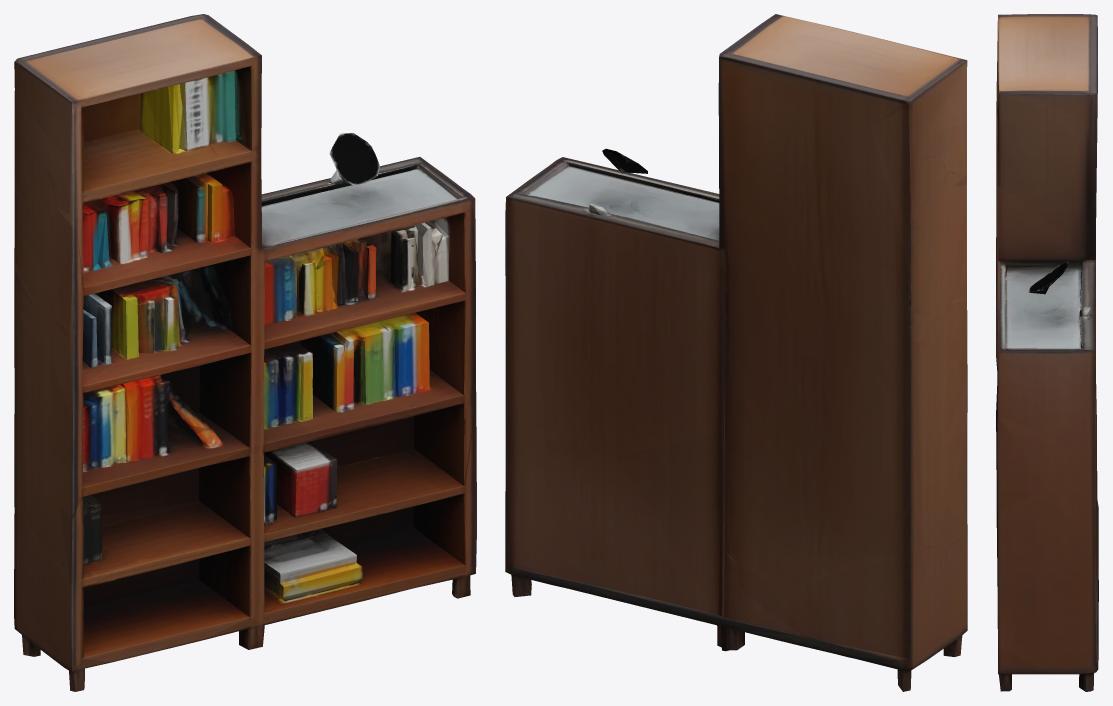
The model's file is bookshelf.glb.
3 renders of one model, left to right at view 1: azimuth 30°, elevation 25°; view 2: azimuth 150°, elevation 25°; view 3: azimuth 270°, elevation 25°, orthographic. The views are drawn at different scales.
Parts seen in each view (by area): view 1: world; view 2: world; view 3: world.
Part boxes in pixels (x1,y1,x2,y2): world: [14, 14, 476, 691]; world: [505, 14, 967, 691]; world: [996, 14, 1098, 691].
Bounding box in the file's own units: 0.7167 × 1 × 0.183.
Materials: 1 (1 with a texture image).
